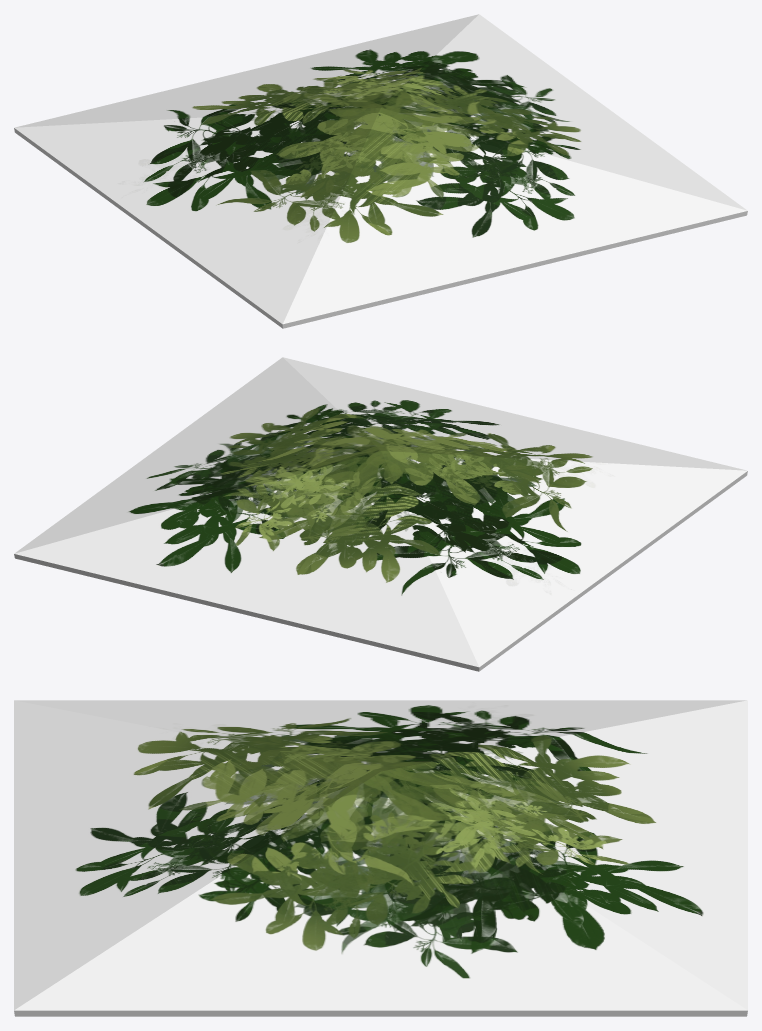
3 views of the same model, one above another, from view 1: azimuth 30°, elevation 25°; view 2: azimuth 150°, elevation 25°; view 3: azimuth 270°, elevation 25° (orthographic). The views are drawn at different scales.
Parts seen in each view (by area): view 1: alpha_color.001; view 2: alpha_color.001; view 3: alpha_color.001.
Boxes of the visible parts, left/top/right/bottom form: alpha_color.001: left=14, top=14, right=747, bottom=328; alpha_color.001: left=14, top=357, right=747, bottom=671; alpha_color.001: left=14, top=700, right=747, bottom=1016.
Size of the model in its own units: 1 by 0.136 by 1.
Materials: 1 (1 with a texture image).
